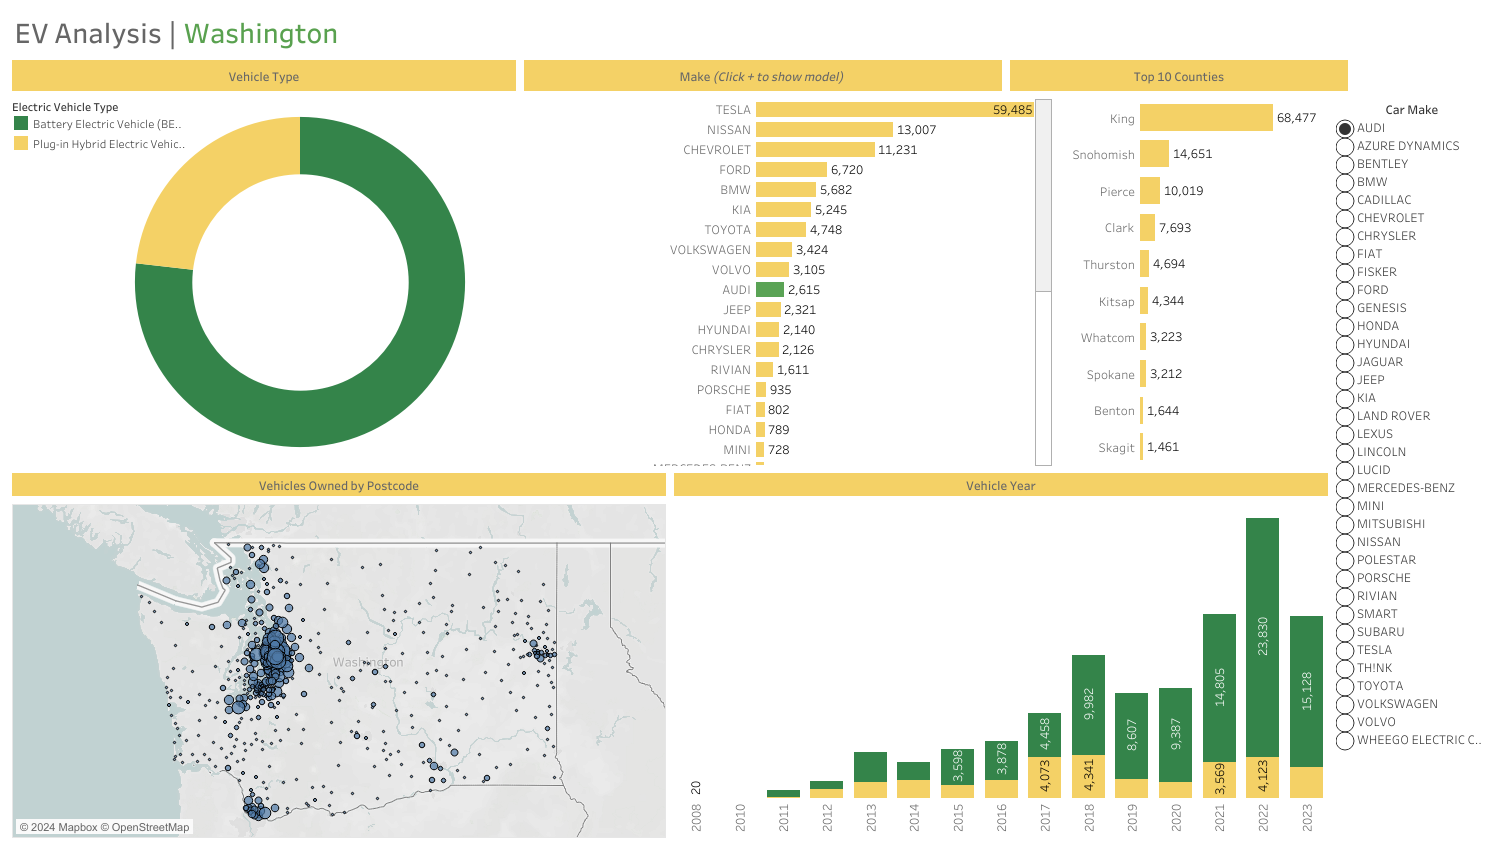

The page's visual inventory and layout, read from the dashboard file:
{"tool":"tableau","page":{"name":"EV Analysis","canvas":[1500,850],"ordinal":0},"visuals":[{"type":"text","box":[8,8,1484,48.3]},{"type":"text","box":[8,56.3,511.9,38.9]},{"type":"text","box":[519.9,56.3,486,38.9]},{"type":"text","box":[1005.9,56.3,345.8,38.9]},{"type":"worksheet","title":"Vehicle Type Donut","mark":"Pie","rows":["Calculation_1420041311087853569","Calculation_1420041311087853569"],"box":[8,95.2,584,373.4]},{"type":"worksheet","title":"Make & Model","mark":"Automatic","rows":["Make"],"cols":["DOL Vehicle ID"],"box":[592,95.2,464,373.4]},{"type":"worksheet","title":"Top 10 Counties","mark":"Automatic","rows":["County"],"cols":["DOL Vehicle ID"],"box":[1056,95.2,276,373.4]},{"type":"parameter","param":"[Parameters].[Parameter 1]","box":[1332,95.2,160,697]},{"type":"legend","title":"Vehicle Type Donut","param":"[federated.1xko5ae0dp8rfs1b01b5y0gqunte].[none:Electric Vehicle Type:nk]","box":[10.5,96.8,175.5,58.8]},{"type":"text","box":[8,468.6,662,31.2]},{"type":"text","box":[670,468.6,662,31.2]},{"type":"worksheet","title":"Map","mark":"Automatic","box":[8,499.8,662,342.2]},{"type":"worksheet","title":"Year and Type","mark":"Bar","rows":["DOL Vehicle ID"],"cols":["Model Year"],"box":[670,499.8,662,342.2]}]}

Visuals, with their boxes in screenshot pixels (x1, y1, x2, y2), scaled from the page's 1500x850 canvas onto the 1499x849 screenshot:
text: <box>8,8,1491,56</box>
text: <box>8,56,520,95</box>
text: <box>520,56,1005,95</box>
text: <box>1005,56,1351,95</box>
"Vehicle Type Donut" worksheet (Pie marks): <box>8,95,592,468</box>
"Make & Model" worksheet: <box>592,95,1055,468</box>
"Top 10 Counties" worksheet: <box>1055,95,1331,468</box>
parameter: <box>1331,95,1491,791</box>
"Vehicle Type Donut" legend: <box>10,97,186,155</box>
text: <box>8,468,670,499</box>
text: <box>670,468,1331,499</box>
"Map" worksheet: <box>8,499,670,841</box>
"Year and Type" worksheet (Bar marks): <box>670,499,1331,841</box>
